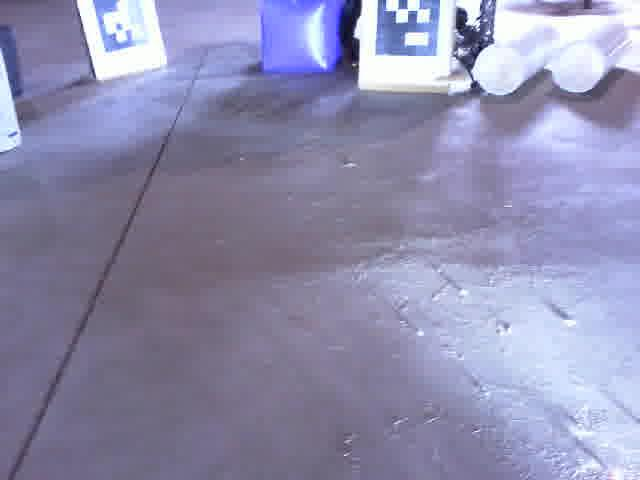coral: (553, 17, 633, 94), (474, 25, 560, 96)
